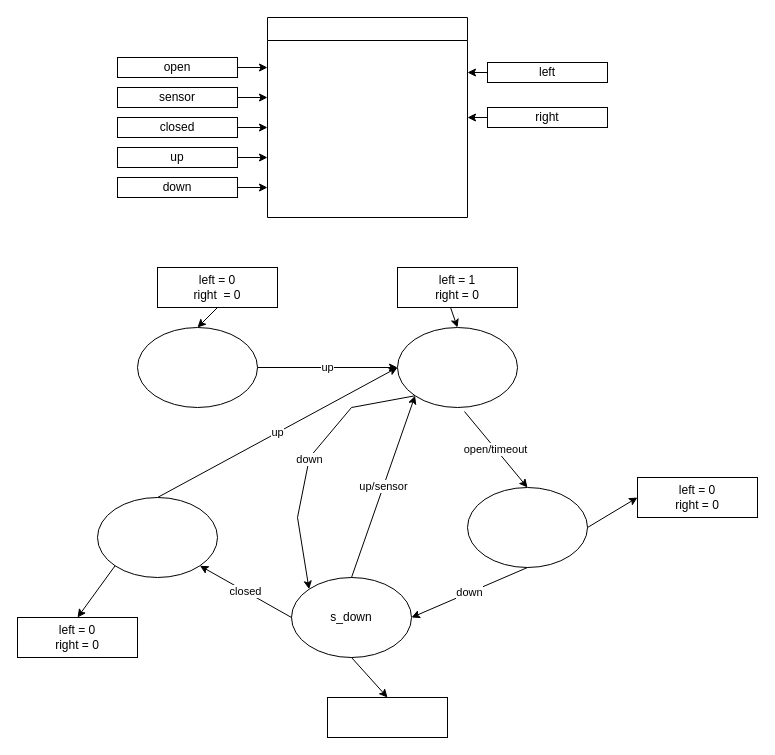
Some shapes in this 775 by 755 pixel diagram are drawn without their labels. Each missing label, with the box of its shape:
door_ctrl: (266, 16, 468, 218)
left = 0 right = 1: (326, 696, 448, 738)
s_closed: (96, 496, 218, 578)
s_idle: (136, 326, 258, 408)
s_open: (466, 486, 588, 568)
s_up: (396, 326, 518, 408)
